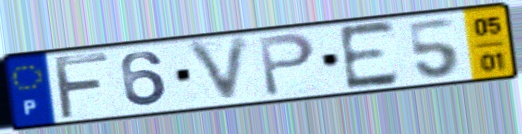5: (404, 15, 462, 81)
6: (118, 50, 170, 109)
E: (335, 18, 402, 93)
F: (50, 51, 112, 122)
P: (255, 31, 319, 100)
V: (183, 32, 255, 107)
